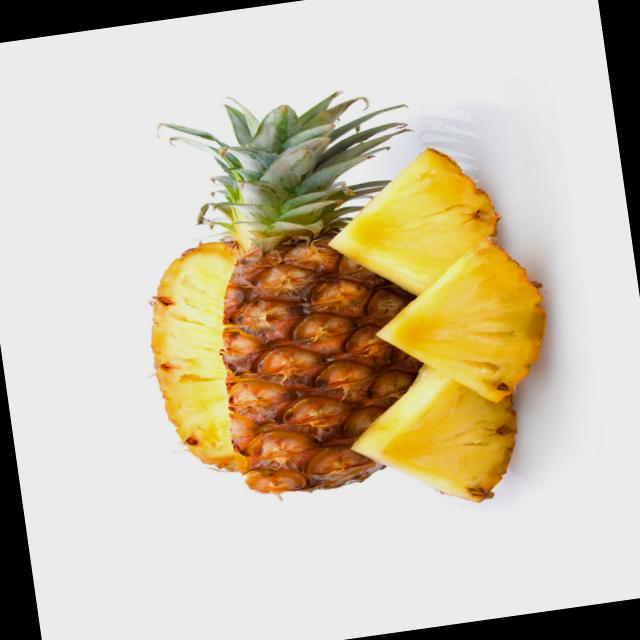pineapple: (136, 180, 422, 527)
